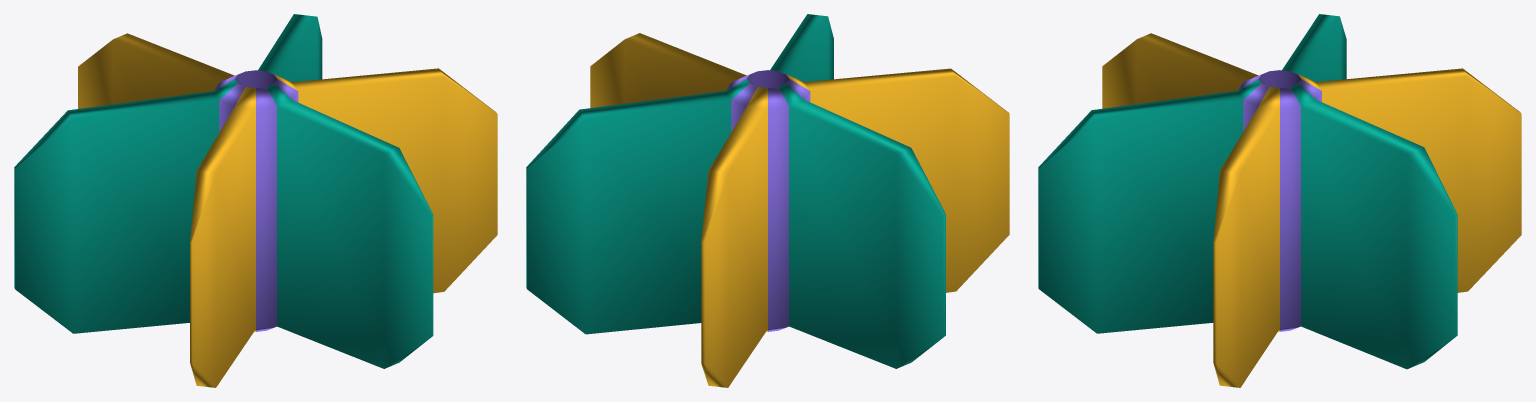
Rendered from turbine.glb.
3 renders of one model, left to right at view 1: azimuth 30°, elevation 25°; view 2: azimuth 150°, elevation 25°; view 3: azimuth 270°, elevation 25°, orthographic.
Parts seen in each view (by area): view 1: Cylinder.146; view 2: Cylinder.146; view 3: Cylinder.146.
Boxes of the visible parts, left/top/right/bottom form: Cylinder.146: left=14, top=14, right=497, bottom=387; Cylinder.146: left=526, top=14, right=1009, bottom=387; Cylinder.146: left=1038, top=14, right=1521, bottom=387.
Size of what is drawn, in the model's own units: 7.95 by 4.42 by 7.95.
1 material, 1 textured.
